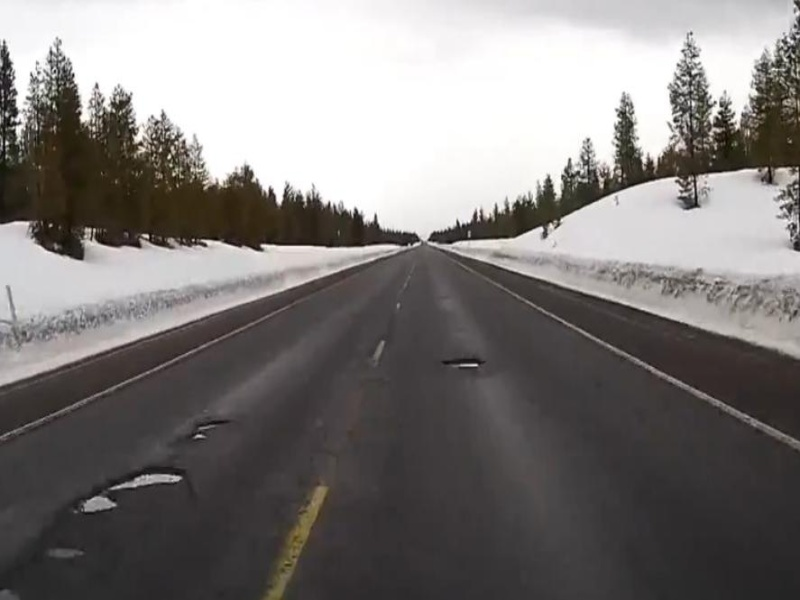pothole: (69, 467, 195, 522), (433, 352, 497, 374), (183, 417, 230, 441)
